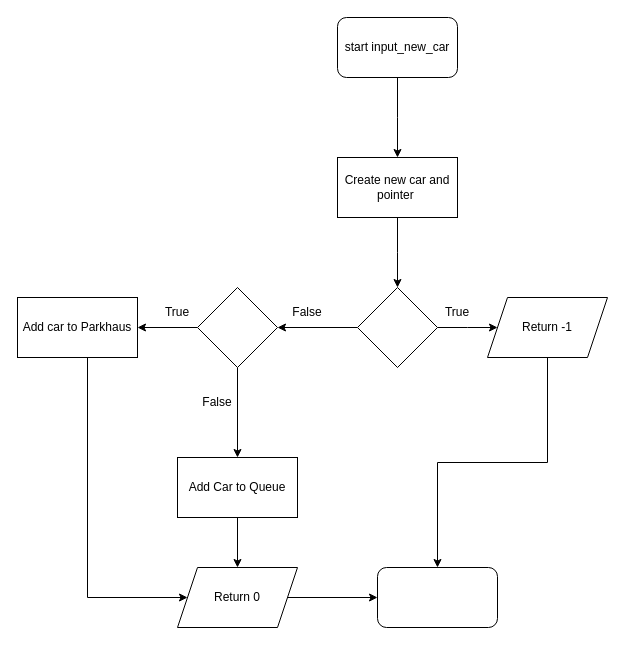
The diagram is 625 pixels wide and 645 high, and some of its shapes have lost their labels. Each missing label, with the box of its shape:
Pointer is NULL: (356, 286, 438, 368)
Stop: (376, 566, 498, 628)
There are free spaces: (196, 286, 278, 368)
